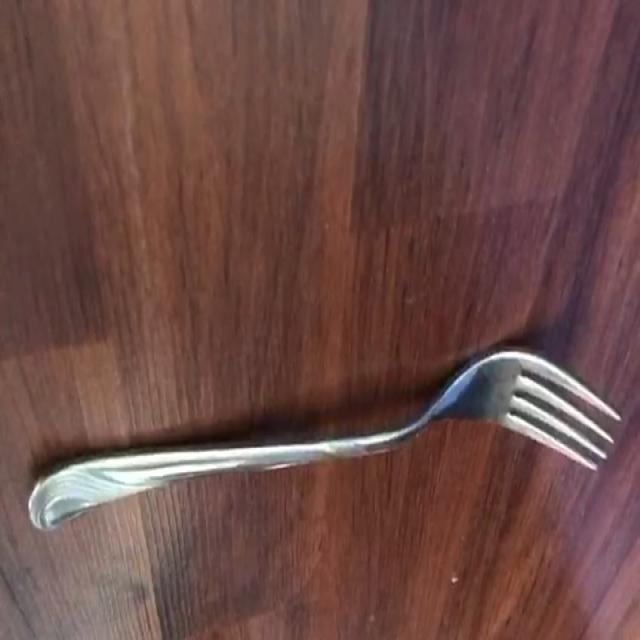spoon: (29, 349, 621, 529)
